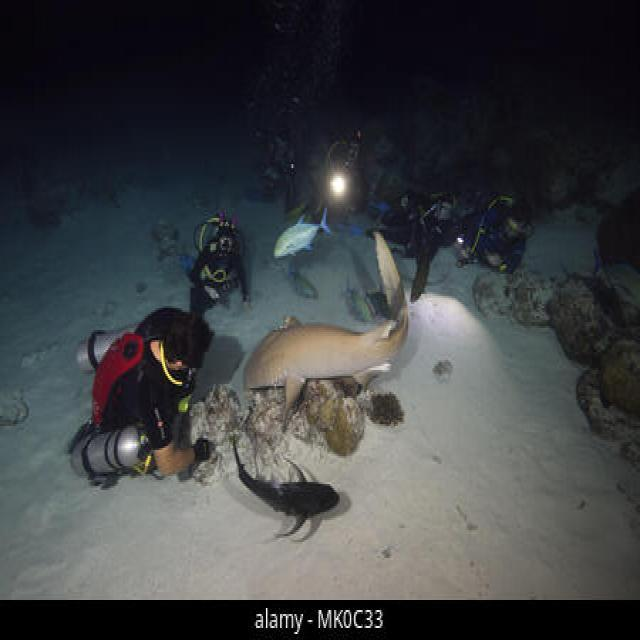Shark: (223, 220, 484, 440)
